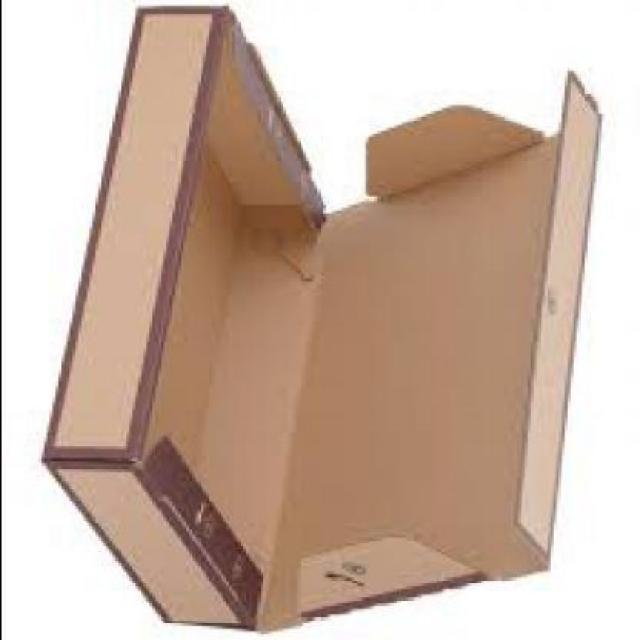box: (46, 2, 606, 629)
